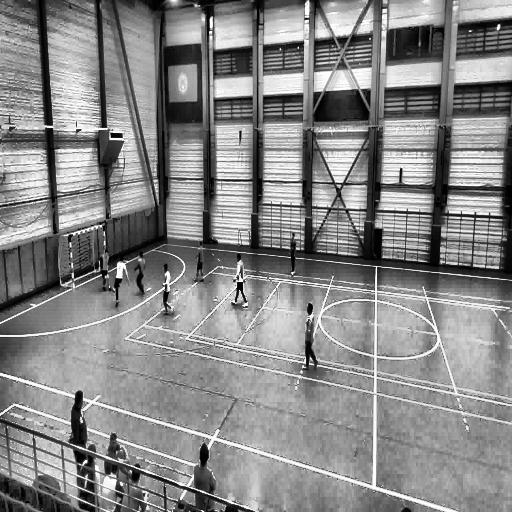player: (68, 392, 87, 473), (300, 302, 318, 371), (232, 252, 249, 306), (113, 254, 128, 307), (161, 262, 174, 315), (134, 251, 145, 296), (195, 240, 205, 282), (101, 249, 110, 291), (290, 232, 297, 275)
